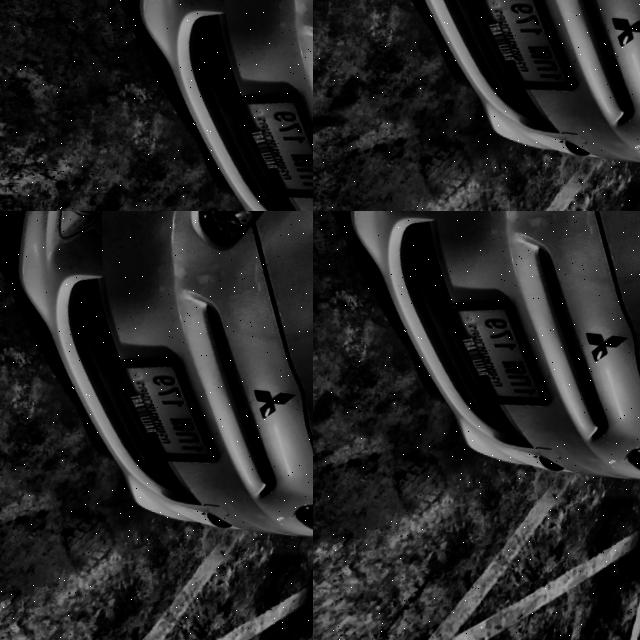license-plate: (436, 299, 579, 411)
